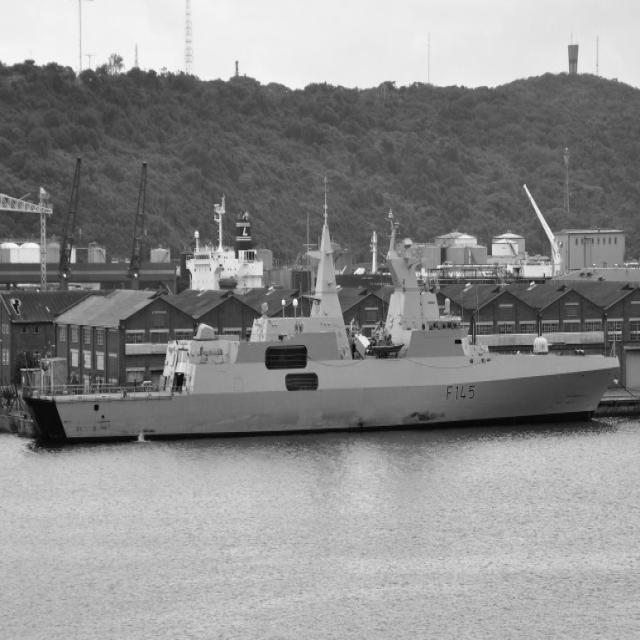Fragata: (19, 168, 623, 450)
